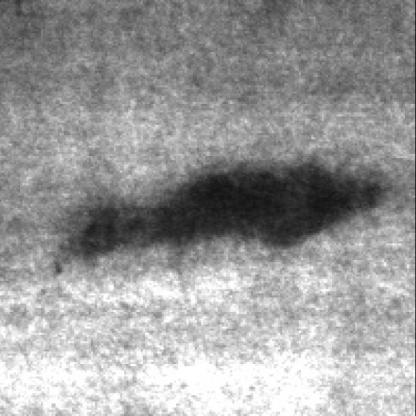patches: (152, 160, 385, 266), (48, 204, 169, 281)
